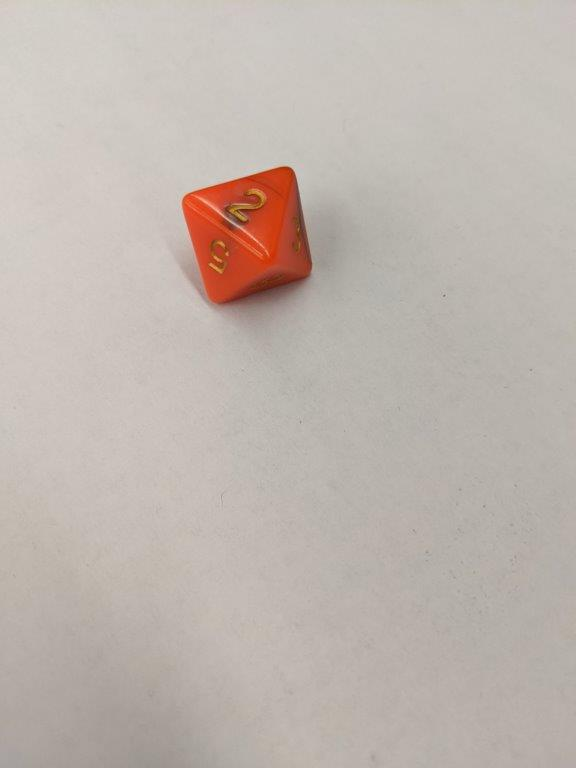d8-2: (179, 165, 316, 308)
